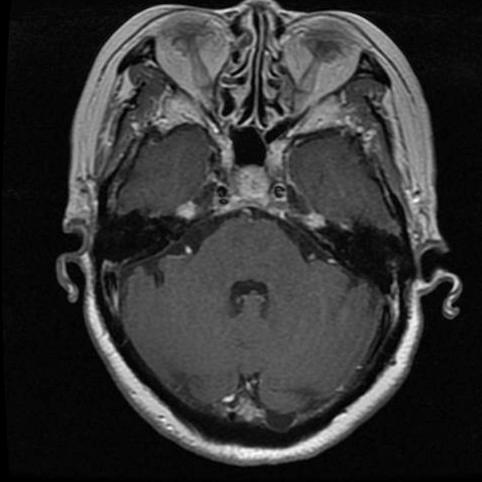Tumour-Pituitary: (209, 168, 283, 219)
